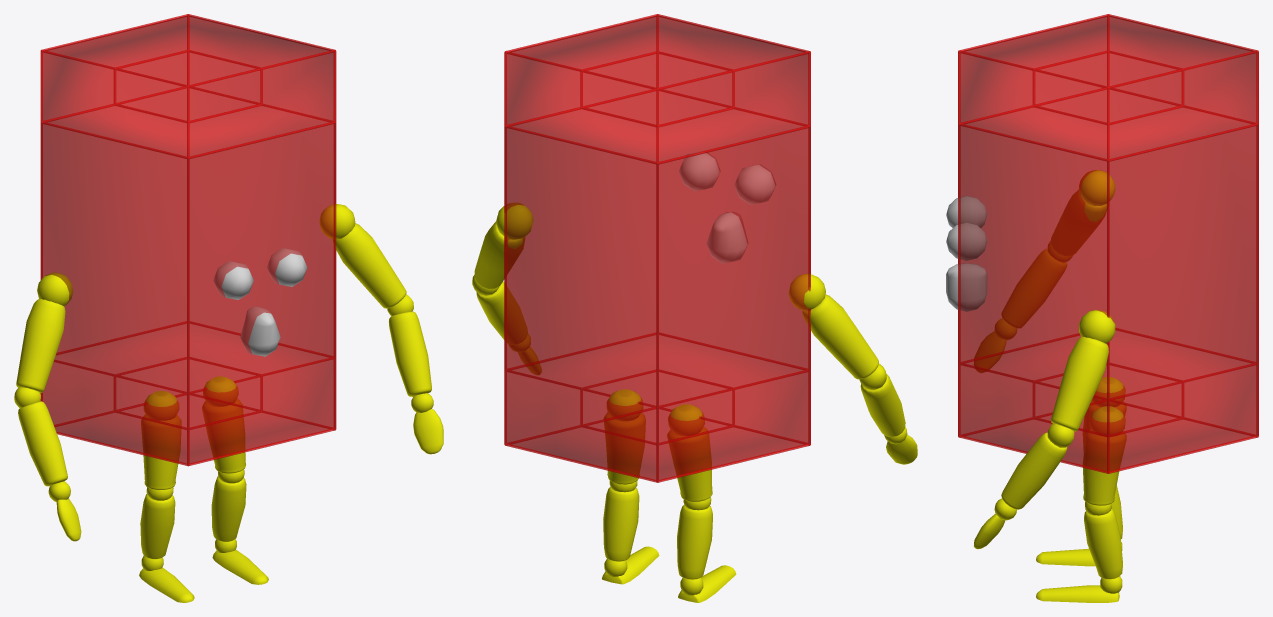
File: Prismas - 06 - 11.fbx
The picture shows the model from 3 angles, left to right: view 1: azimuth 30°, elevation 25°; view 2: azimuth 150°, elevation 25°; view 3: azimuth 270°, elevation 25°; orthographic projection. The views are drawn at different scales.
Parts seen in each view (by area): view 1: Prisma 6 - Rostro1; view 2: Prisma 6 - Rostro1; view 3: Prisma 6 - Rostro1.
Boxes of the visible parts, left/top/right/bottom form: Prisma 6 - Rostro1: left=14, top=14, right=443, bottom=602; Prisma 6 - Rostro1: left=472, top=14, right=917, bottom=602; Prisma 6 - Rostro1: left=946, top=14, right=1258, bottom=602.
Bounding box in the file's own units: 176 × 204 × 118.
